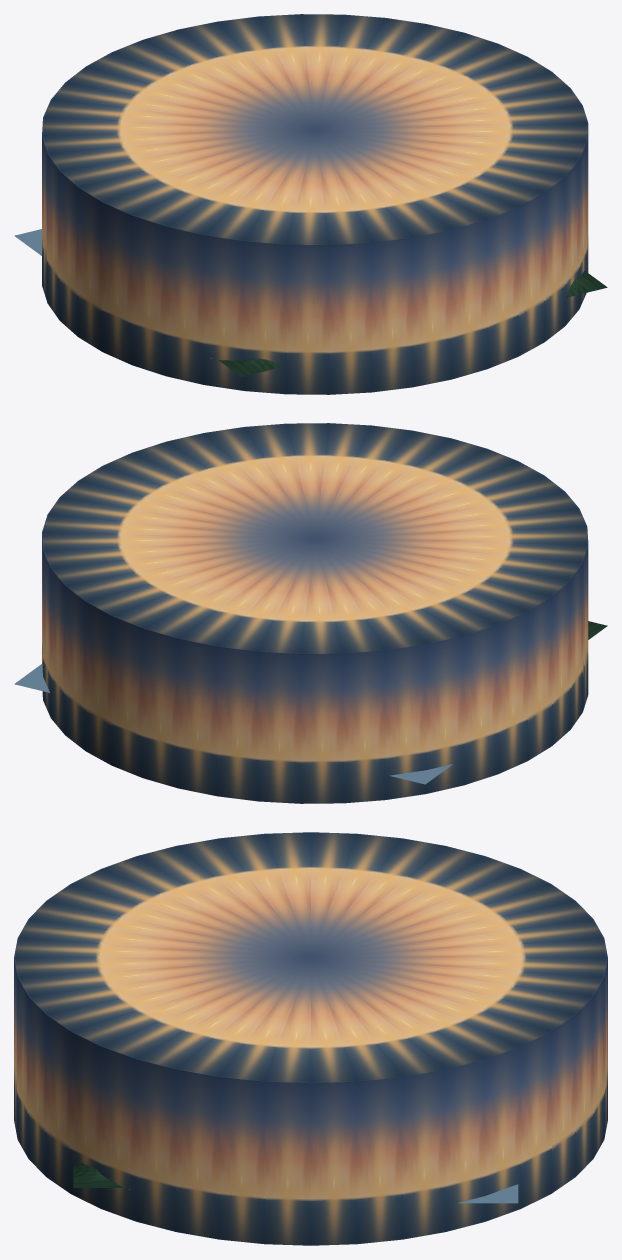
The model's file is penthouse_duplex.glb.
The picture shows the model from 3 angles, top to bottom: view 1: azimuth 30°, elevation 25°; view 2: azimuth 150°, elevation 25°; view 3: azimuth 270°, elevation 25°; orthographic projection. The views are drawn at different scales.
Visible parts, largest first — view 1: SkyCyclorama, mountain_massif; view 2: SkyCyclorama, OceanVistaWater; view 3: SkyCyclorama, mountain_massif, OceanVistaWater.
Part boxes in pixels (x1,y1,x2,y2): SkyCyclorama: (42,14,588,394); mountain_massif: (218,270,607,376); SkyCyclorama: (42,423,588,803); OceanVistaWater: (14,664,452,784); SkyCyclorama: (14,832,607,1245); mountain_massif: (73,1163,123,1187); OceanVistaWater: (458,1184,518,1203).
Bounding box in the file's own units: 530 × 160 × 530.
98 materials, 36 textured.
